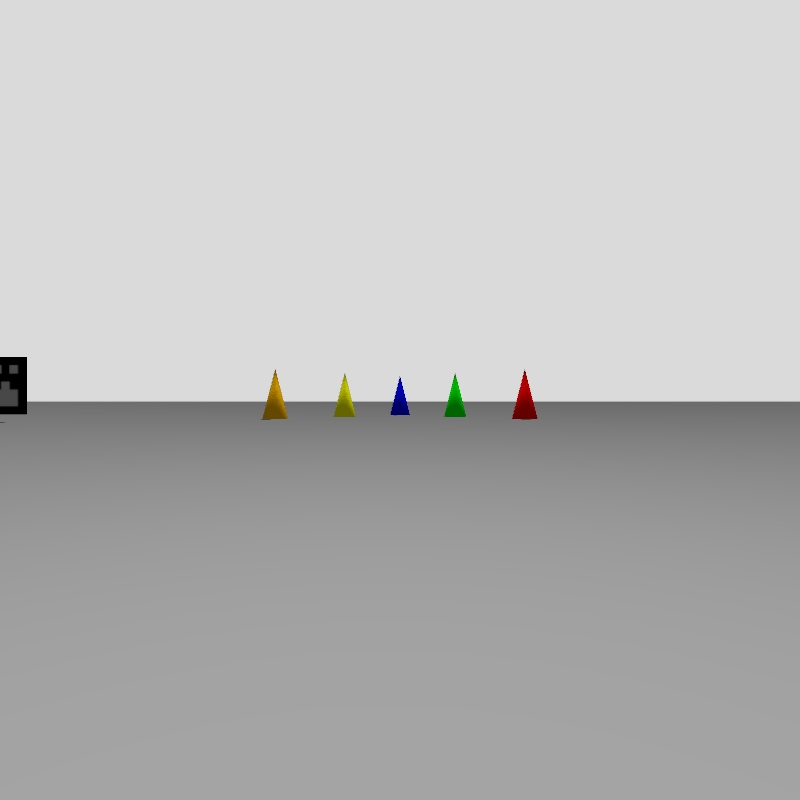Blue_cone: (391, 378, 409, 415)
Green_cone: (444, 376, 465, 416)
Orange_cone: (262, 371, 287, 419)
Red_cone: (512, 371, 537, 418)
Yellow_cone: (333, 374, 354, 416)
